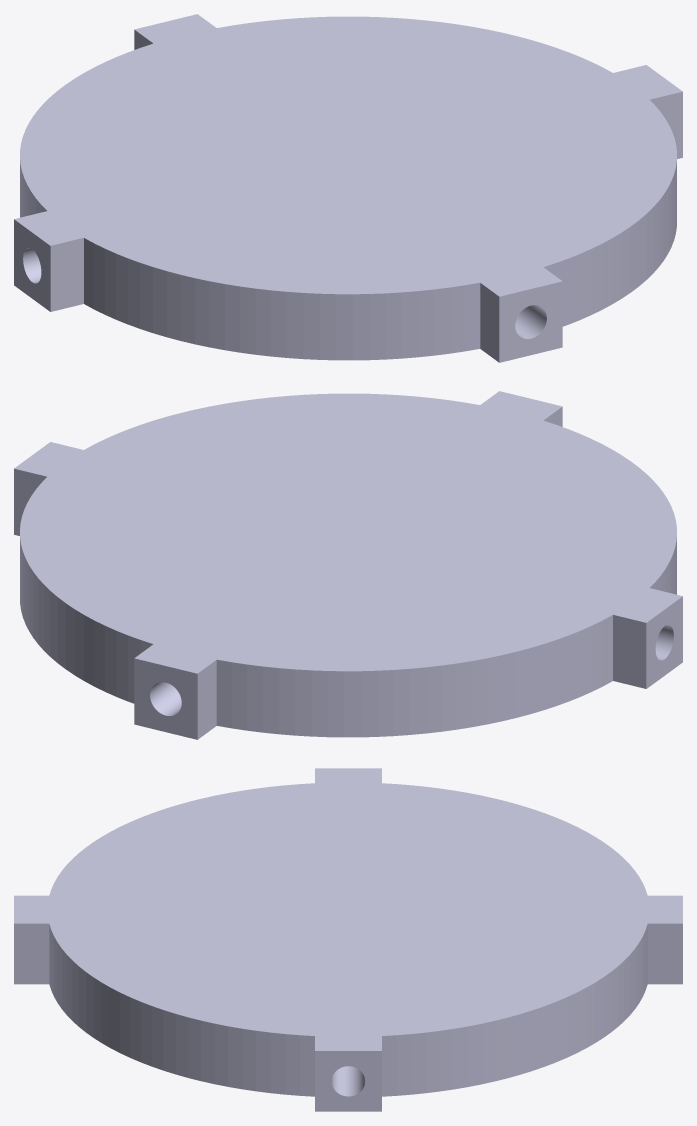
File: mini_rocket_upper_rcs.dae
The picture shows the model from 3 angles, top to bottom: view 1: azimuth 30°, elevation 25°; view 2: azimuth 150°, elevation 25°; view 3: azimuth 270°, elevation 25°; orthographic projection. The views are drawn at different scales.
Parts seen in each view (by area): view 1: node0; view 2: node0; view 3: node0.
Part boxes in pixels (x1=…): node0: x1=14, y1=14, x2=682, y2=362; node0: x1=14, y1=391, x2=682, y2=739; node0: x1=14, y1=768, x2=682, y2=1111.
Size of the model in its own units: 0.1 by 0.1 by 0.01.
